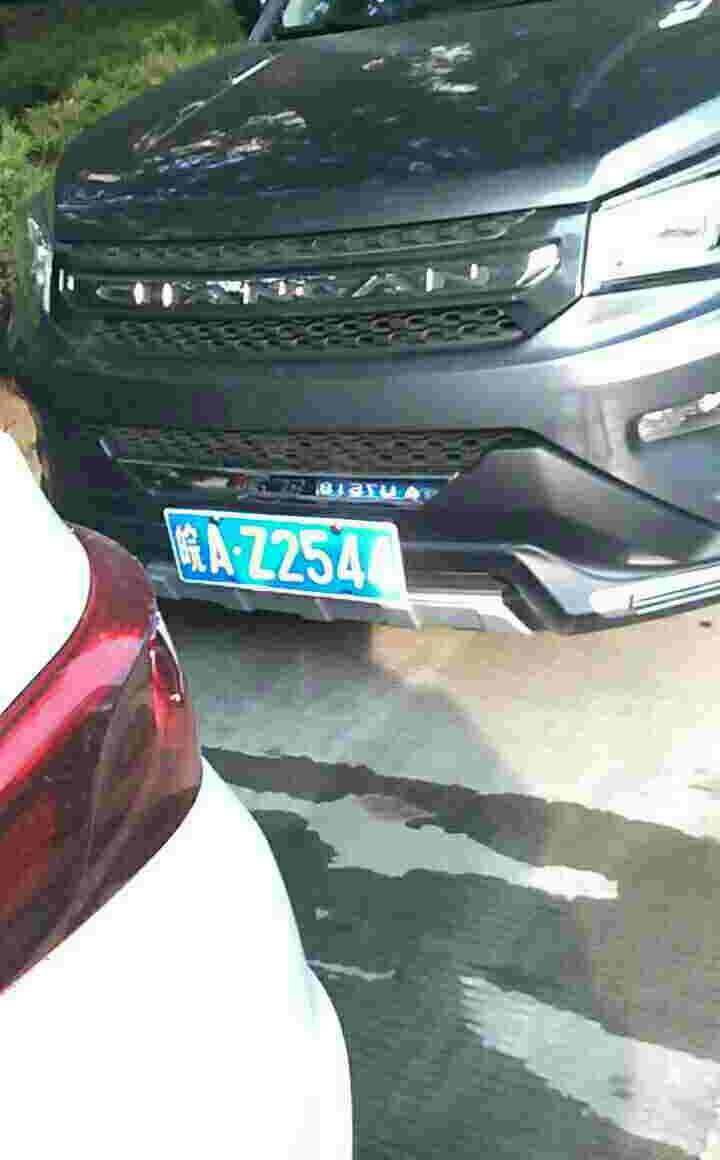plate: (167, 503, 401, 606)
